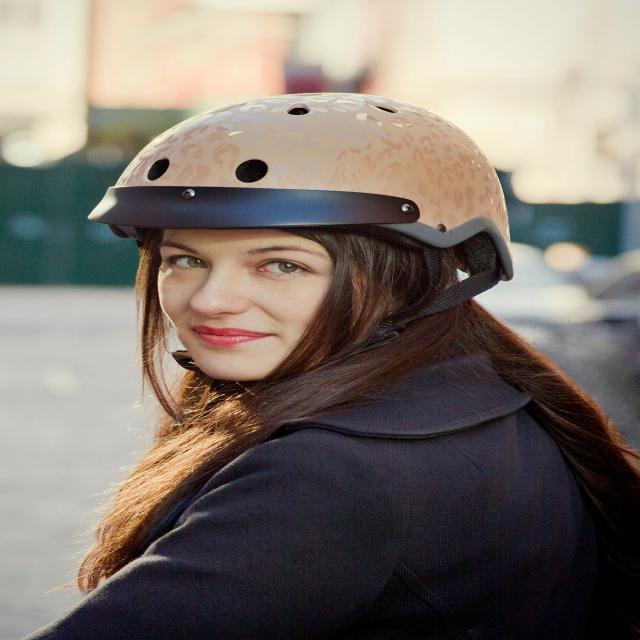Helmet: (90, 92, 516, 384)
